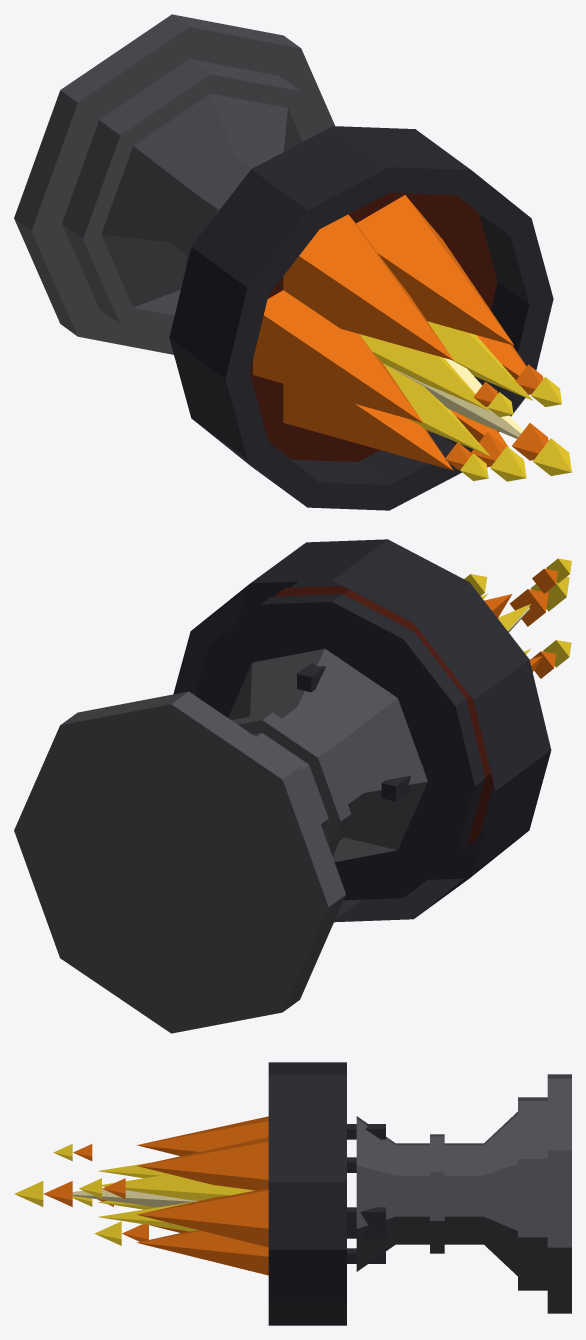
File: dungeon_brazier.obj
3 renders of one model, top to bottom at view 1: azimuth 30°, elevation 25°; view 2: azimuth 150°, elevation 25°; view 3: azimuth 270°, elevation 25°, orthographic. The views are drawn at different scales.
Visible parts, largest first — view 1: dungeon_brazier; view 2: dungeon_brazier; view 3: dungeon_brazier.
Boxes of the visible parts, x1=… form: dungeon_brazier: x1=14, y1=14, x2=571, y2=510; dungeon_brazier: x1=14, y1=539, x2=571, y2=1033; dungeon_brazier: x1=14, y1=1062, x2=571, y2=1325.
Size of the model in its own units: 2.7 by 2.7 by 5.7.
